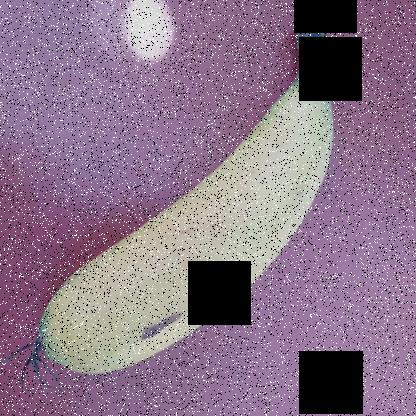ripe: (32, 47, 350, 383)
